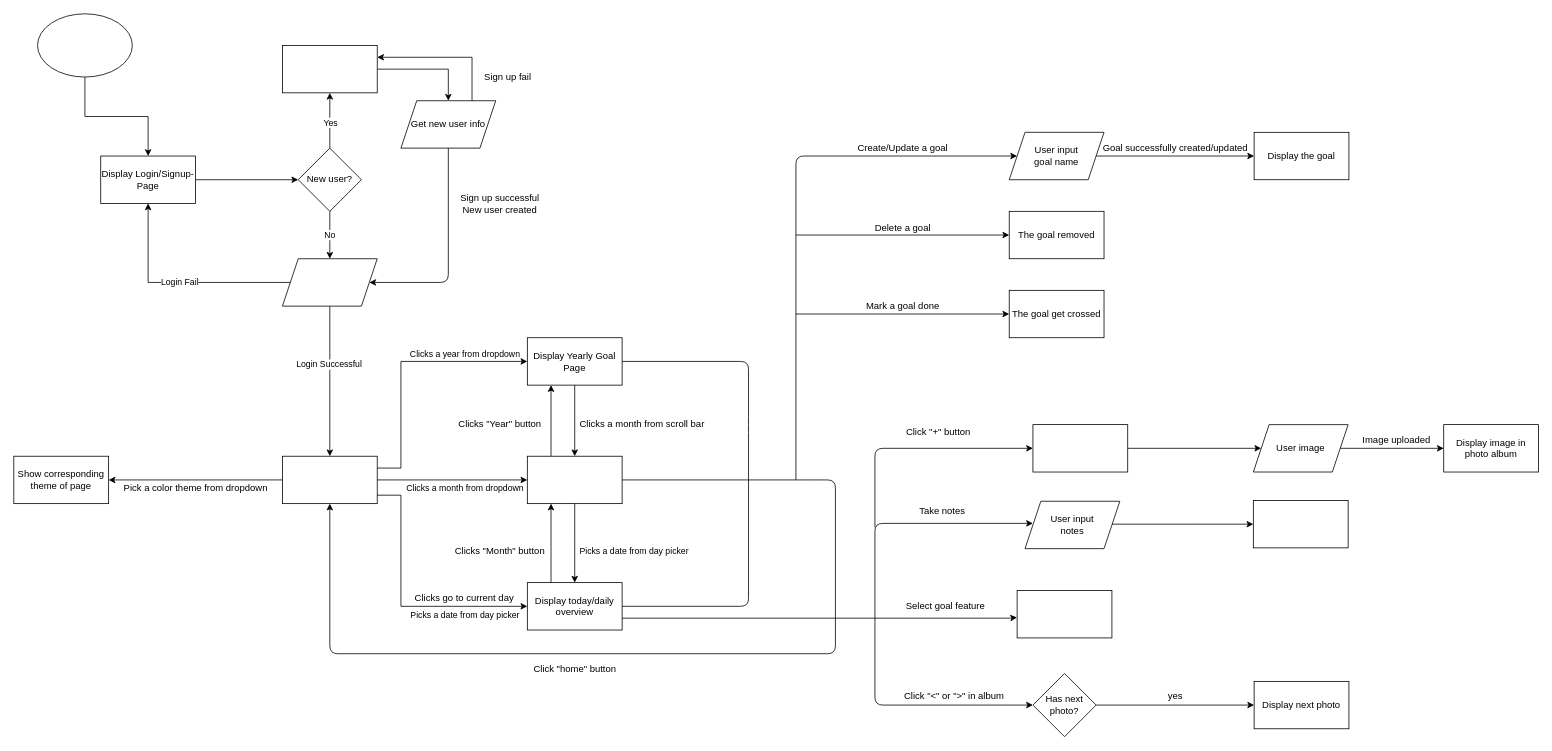
Image size: 1552x751. Some labels were removed from this diagram. Each missing label, with the box of its shape:
Display associated icon for the goal: (1016, 590, 1112, 638)
Display file upload button: (1032, 424, 1128, 472)
Display index page: (282, 455, 377, 504)
Display Monthly Goal Page: (527, 455, 622, 504)
Display notes: (1253, 500, 1348, 548)
Display sign-up view: (282, 45, 377, 93)
Get login info: (282, 258, 377, 306)
Start: (37, 13, 132, 77)
